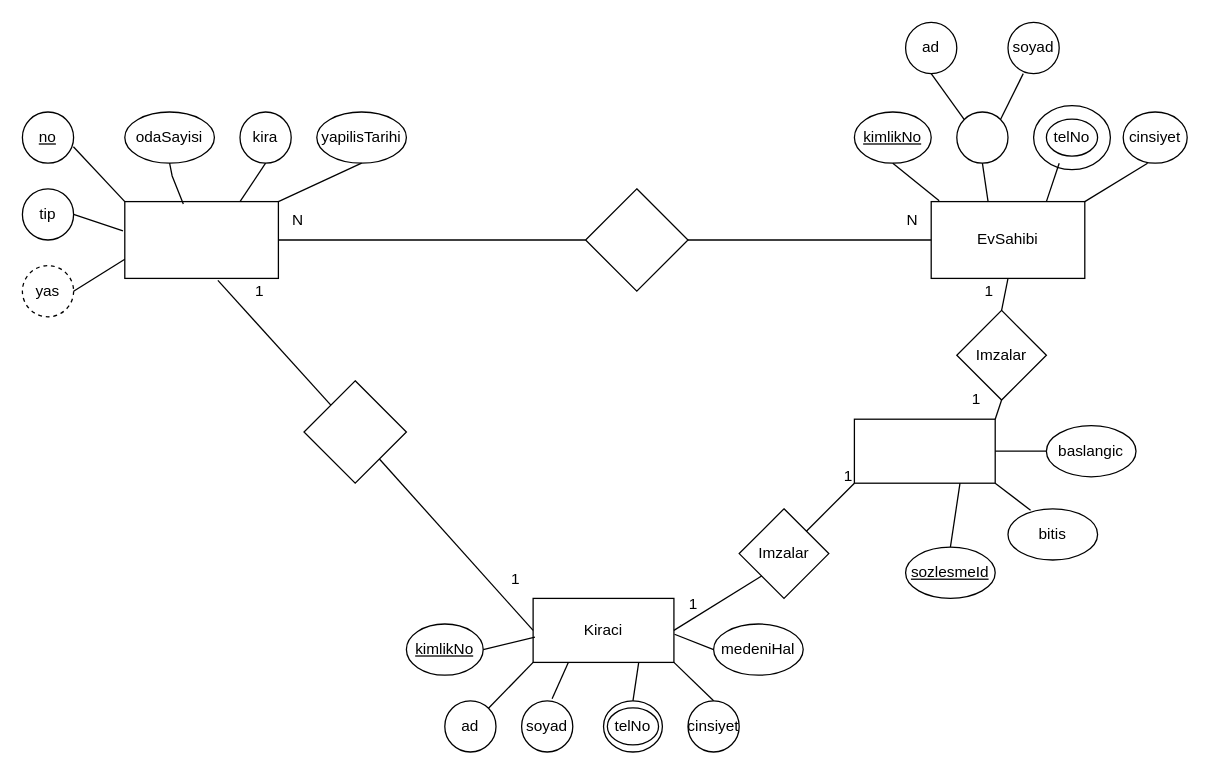
This 1210x774 diagram has some shape labels left out. The shapes that lost their labels are listed below. From the top down, each one's centre as x and y in pixels, then its label:
At pixel 982 137: "isim".
At pixel 201 239: "Ev".
At pixel 636 239: "Sahiptir".
At pixel 354 431: "Tutar".
At pixel 924 450: "KiraSozlesmesi".
